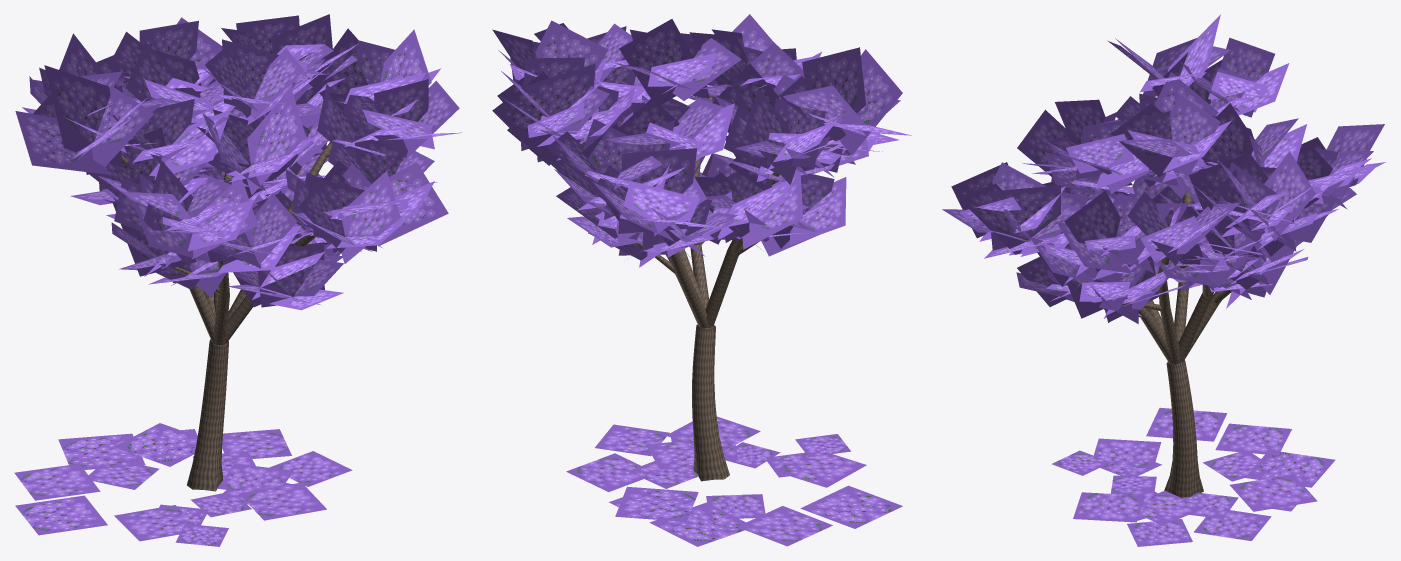
File: jacaranda_purple.glb
3 views of the same model, side by side, from view 1: azimuth 30°, elevation 25°; view 2: azimuth 150°, elevation 25°; view 3: azimuth 270°, elevation 25° (orthographic). The views are drawn at different scales.
Parts seen in each view (by area): view 1: jacaranda_purple; view 2: jacaranda_purple; view 3: jacaranda_purple.
Boxes of the visible parts, x1,y1,x2,y2 form: jacaranda_purple: (14,14,462,546); jacaranda_purple: (492,14,911,546); jacaranda_purple: (942,14,1385,546).
Bounding box in the file's own units: 9.98 × 10.25 × 10.02.
Materials: 2 (2 with a texture image).
